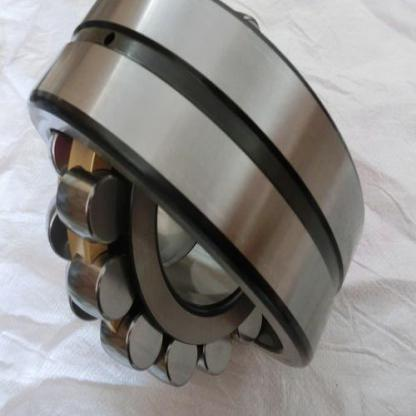FOD: (27, 0, 370, 391)
